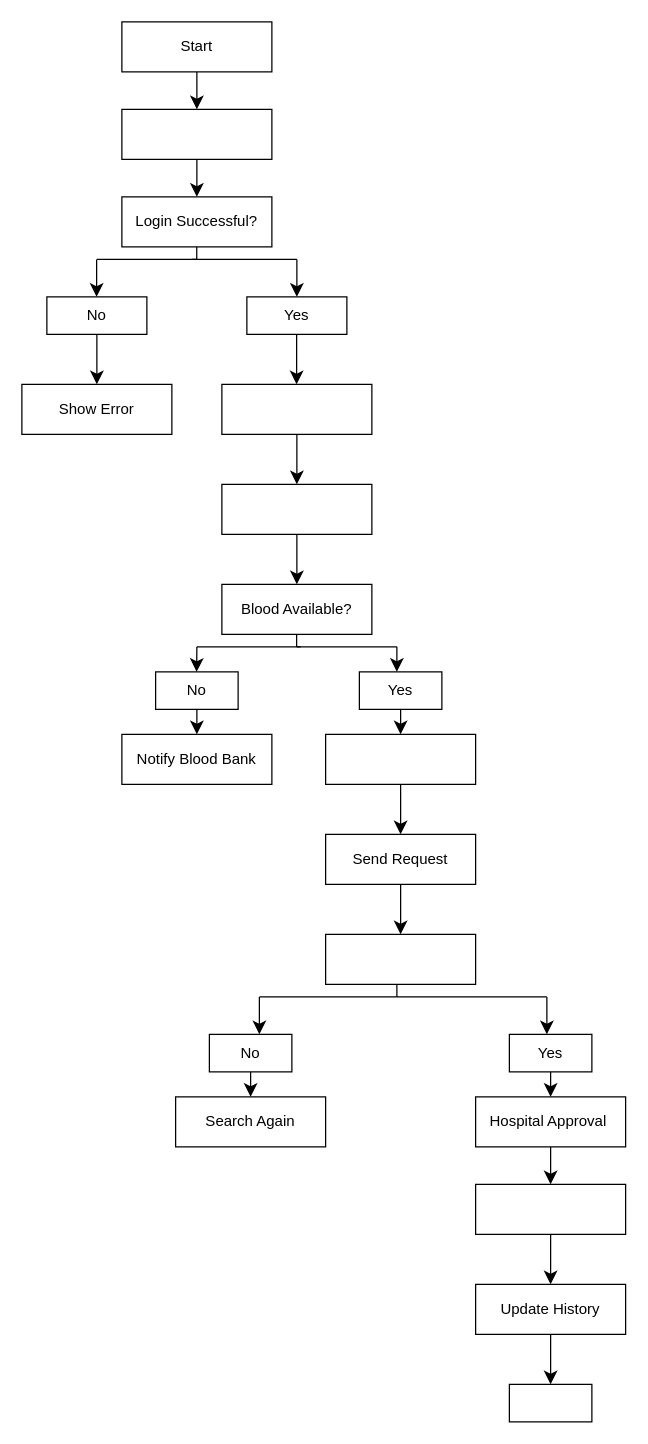
This 648x1444 diagram has some shape labels left out. The shapes that lost their labels are listed below. From the top down, each one's box as (x1, y1, x2, y2) in pixels, then its label:
(121, 108, 272, 159): User Login
(221, 383, 372, 434): Home Screen
(221, 483, 372, 534): Search Blood Group
(324, 733, 476, 784): Select Donor
(324, 933, 476, 984): Donor Accepts?
(474, 1183, 626, 1234): Donation Completed
(508, 1383, 592, 1422): END
